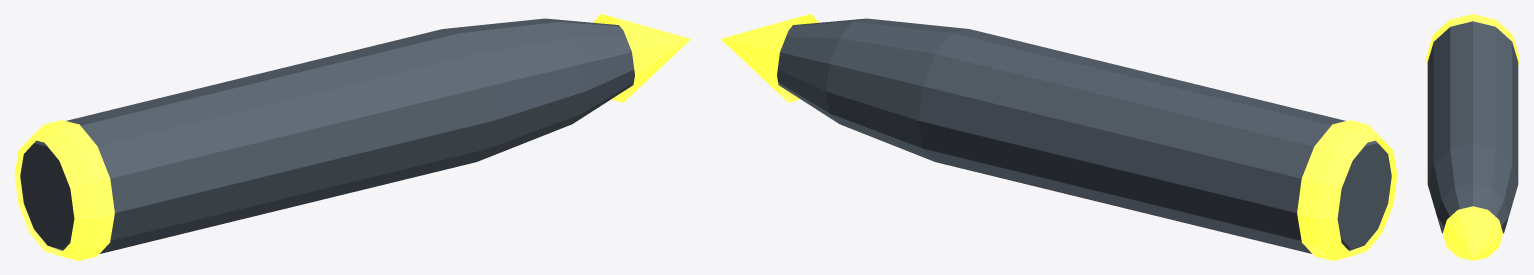
File: heat.glb
3 renders of one model, left to right at view 1: azimuth 30°, elevation 25°; view 2: azimuth 150°, elevation 25°; view 3: azimuth 270°, elevation 25°, orthographic. The views are drawn at different scales.
Parts seen in each view (by area): view 1: Projectile / tapered copper-alloy jacket.010, Projectile / rear tracer compound.010, Projectile / luminous nose.010; view 2: Projectile / tapered copper-alloy jacket.010, Projectile / rear tracer compound.010, Projectile / luminous nose.010; view 3: Projectile / tapered copper-alloy jacket.010, Projectile / luminous nose.010, Projectile / rear tracer compound.010.
Part boxes in pixels (x1,y1,x2,y2): Projectile / tapered copper-alloy jacket.010: (20, 18, 634, 253); Projectile / rear tracer compound.010: (14, 120, 114, 260); Projectile / luminous nose.010: (593, 14, 690, 102); Projectile / tapered copper-alloy jacket.010: (777, 18, 1391, 253); Projectile / rear tracer compound.010: (1297, 120, 1397, 260); Projectile / luminous nose.010: (721, 14, 818, 102); Projectile / tapered copper-alloy jacket.010: (1427, 21, 1518, 233); Projectile / luminous nose.010: (1442, 206, 1503, 260); Projectile / rear tracer compound.010: (1426, 14, 1519, 65).
Size of the model in its own units: 0.424 by 0.08 by 0.08.
